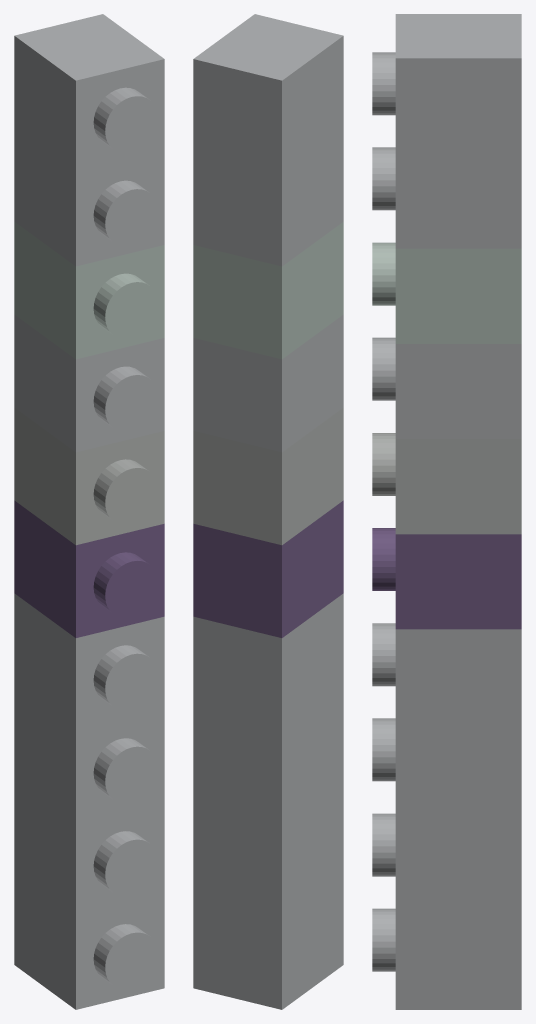
File: current.glb
3 views of the same model, side by side, from view 1: azimuth 30°, elevation 25°; view 2: azimuth 150°, elevation 25°; view 3: azimuth 270°, elevation 25° (orthographic). The views are drawn at different scales.
Visible parts, largest first — view 1: world; view 2: world; view 3: world.
Part boxes in pixels (box(x1,y1,x2,y2)): world: box(14, 14, 164, 1009); world: box(193, 14, 343, 1009); world: box(372, 14, 521, 1009).
Bounding box in the file's own units: 8 × 80 × 11.4.
